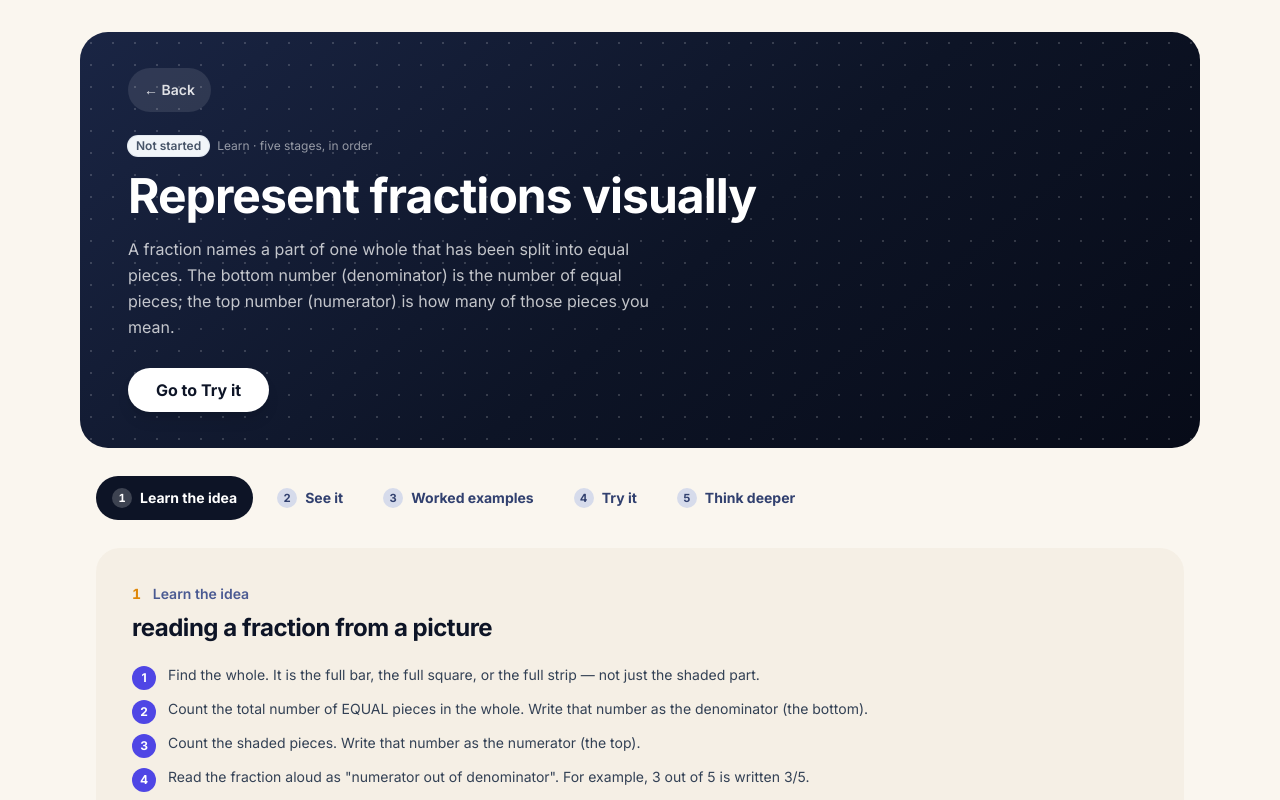
it: §13/§14 the Try-it stage is a sequence, not a worksheet › shows one question at a time and advances
What coordinates should you click on to do the following:
click the button "4 Try it"
I would click on:
 (605, 498)
Its box is [558, 476, 653, 520].
(page scrolled)
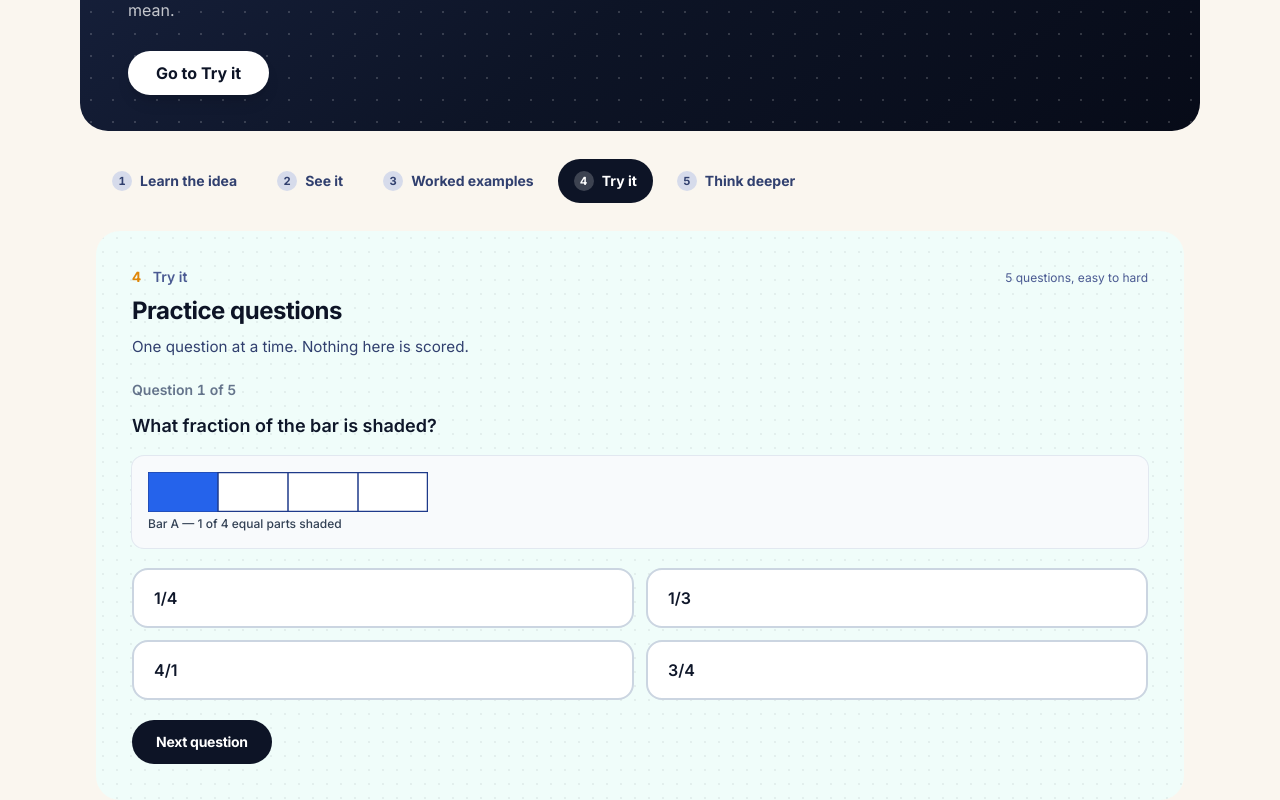
Check: the text "Question 1 of 5" is shown, box [132, 381, 236, 398]
What coordinates should you click on to do the following:
click the button "Next question"
I would click on:
 (202, 742)
Its box is [132, 720, 272, 764].
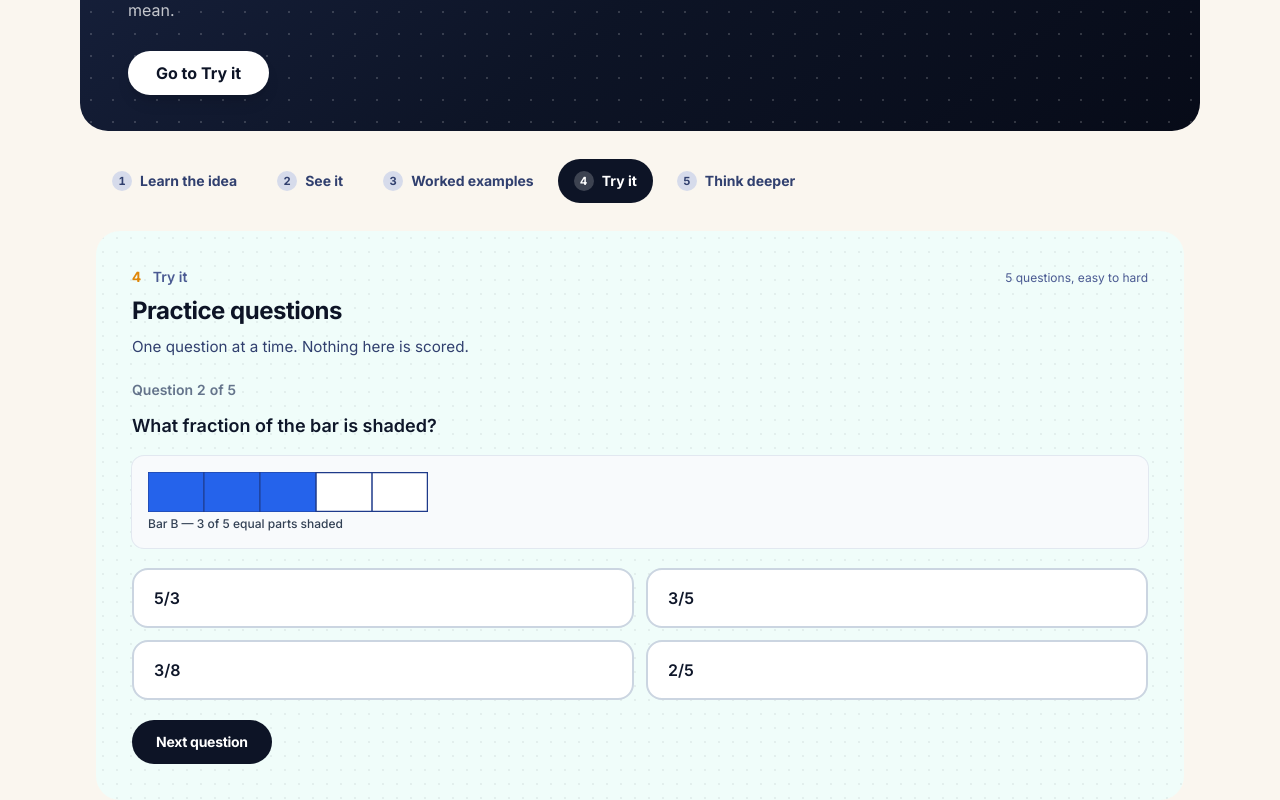
Check: the text "Question 2 of 5" is shown, box [132, 381, 236, 398]
